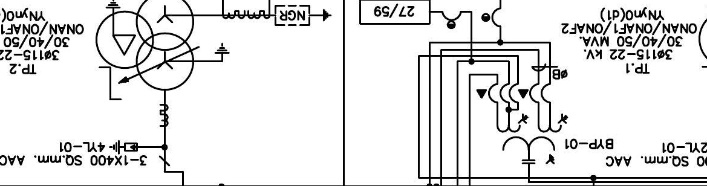115_cvt_3p: (496, 113, 569, 165)
115_la: (108, 139, 138, 155)
NGR_future: (274, 4, 332, 26)
